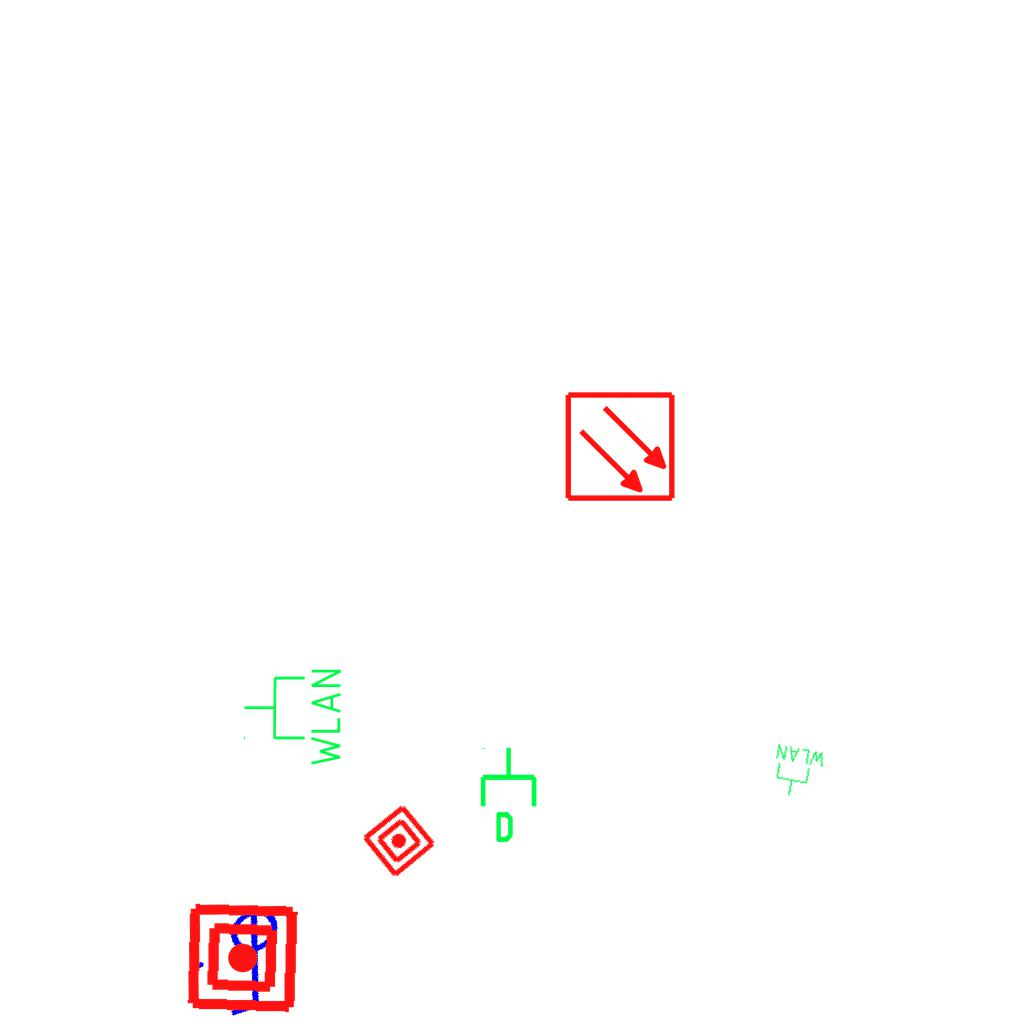Ausschalter_beleuchtet: (180, 891, 328, 1024)
Datenanschluss_einfach: (476, 745, 545, 845)
NAM-Nichtautomatischer_Melder: (184, 899, 301, 1016), (359, 801, 439, 881)
RMO_Rauchmelder_optischer: (564, 390, 677, 503)
WLAN: (241, 665, 345, 770), (767, 741, 829, 803)
